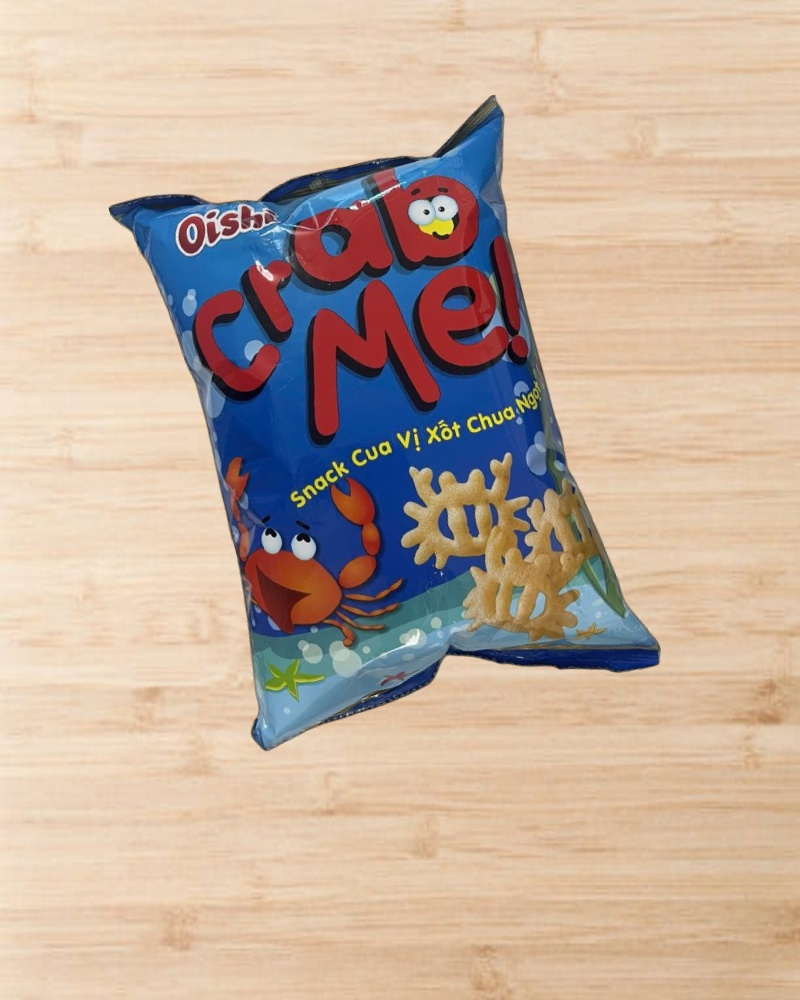Snack chay: (107, 91, 665, 773)
